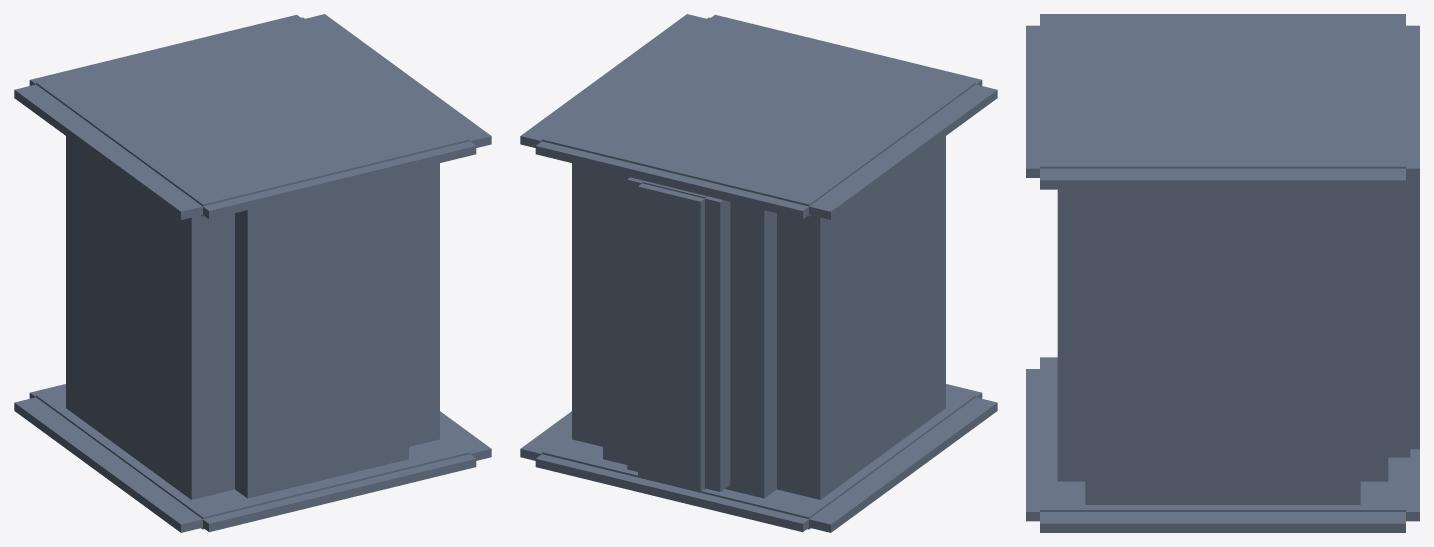
The model's file is bb_comp_WordConsole_ConsoleLeg.fbx.
3 renders of one model, left to right at view 1: azimuth 30°, elevation 25°; view 2: azimuth 150°, elevation 25°; view 3: azimuth 270°, elevation 25°, orthographic. The views are drawn at different scales.
Parts seen in each view (by area): view 1: bb_comp_WordConsole_ConsoleLeg; view 2: bb_comp_WordConsole_ConsoleLeg; view 3: bb_comp_WordConsole_ConsoleLeg.
Part boxes in pixels (left/top/right/bottom): bb_comp_WordConsole_ConsoleLeg: left=14, top=14, right=491, bottom=532; bb_comp_WordConsole_ConsoleLeg: left=520, top=14, right=997, bottom=532; bb_comp_WordConsole_ConsoleLeg: left=1026, top=14, right=1419, bottom=532.
Bounding box in the file's own units: 1 × 1 × 1.
